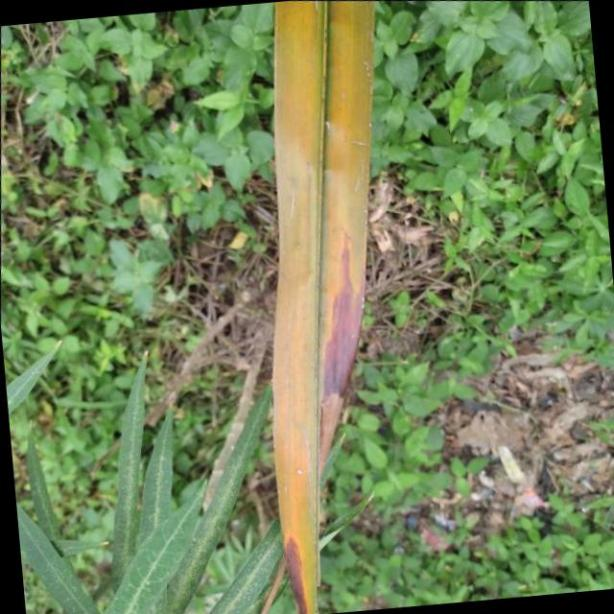Megnesium: (275, 3, 374, 601)
